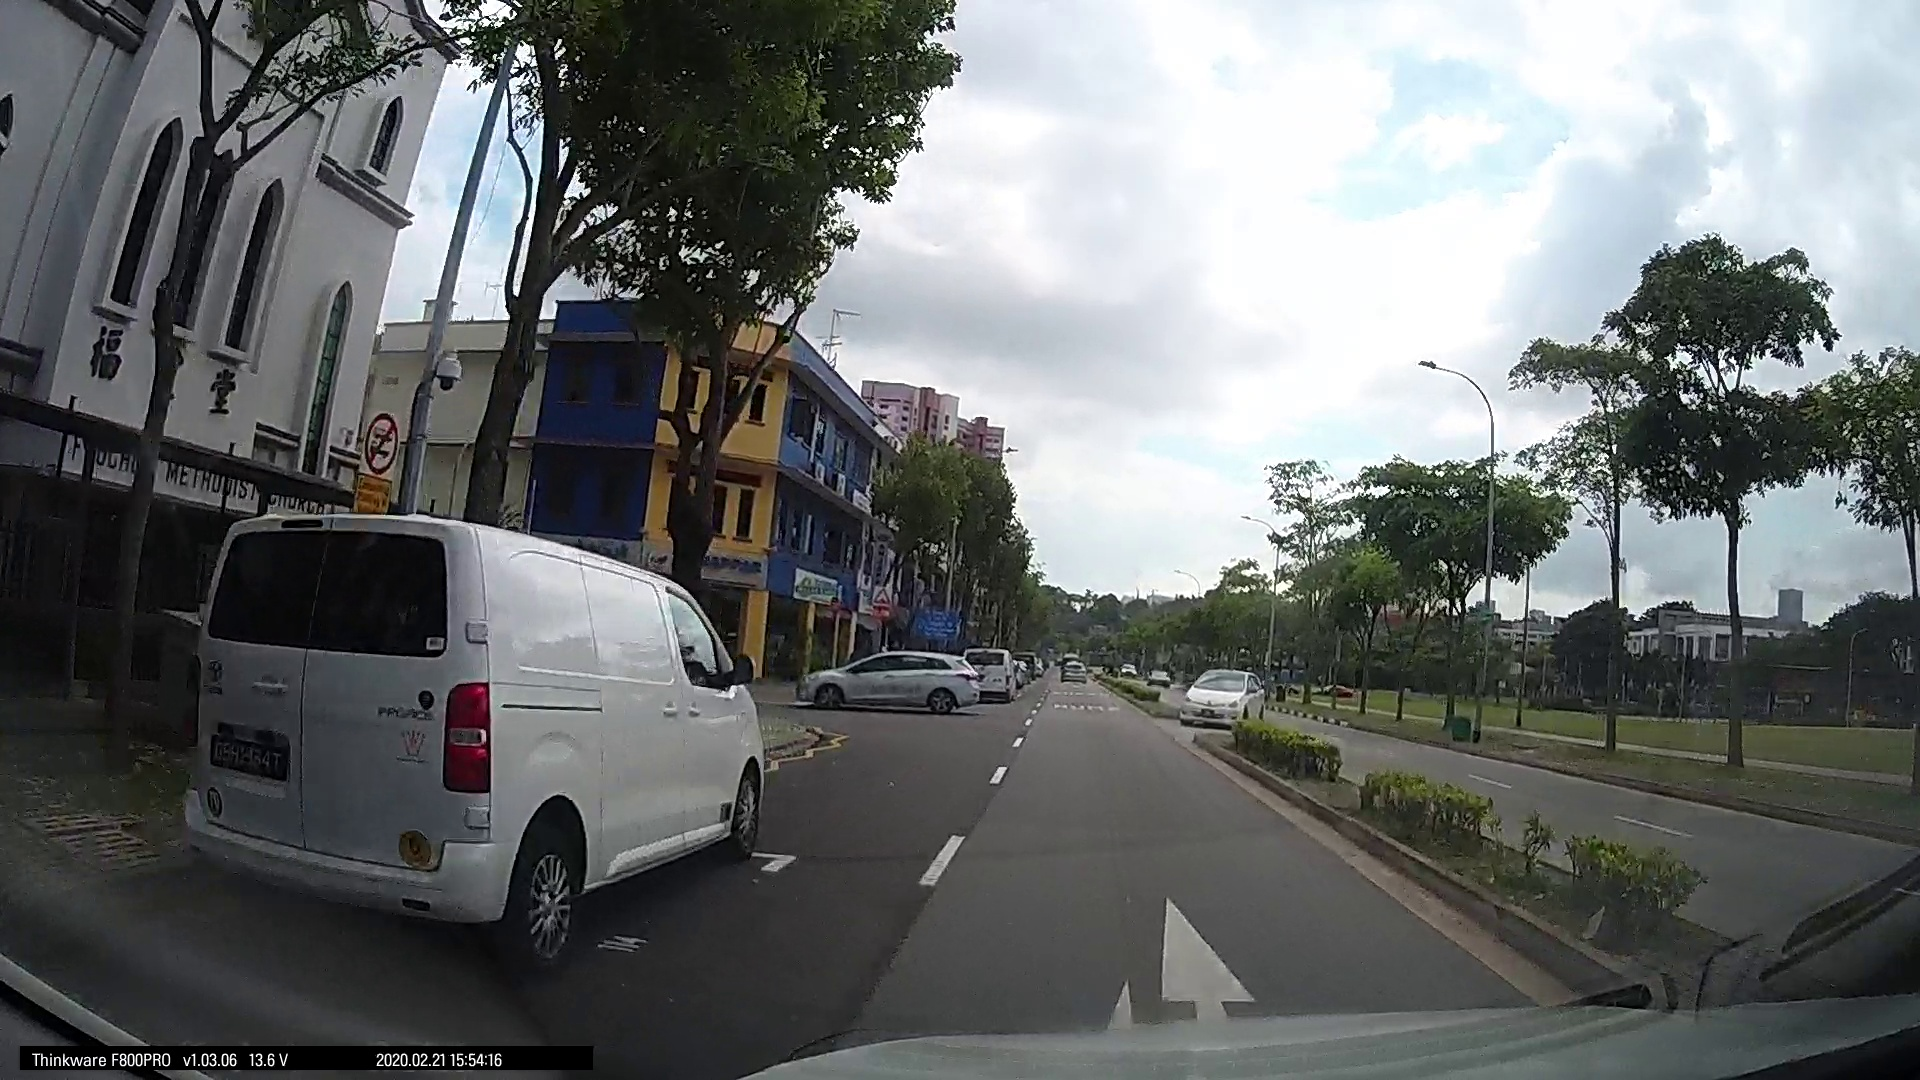Heavy Vehicle: (742, 588, 928, 752)
Light Vehicle: (9, 687, 274, 1029), (1561, 676, 1800, 822), (1461, 688, 1572, 786), (1175, 644, 1242, 707), (1029, 644, 1072, 684), (949, 642, 994, 682)
